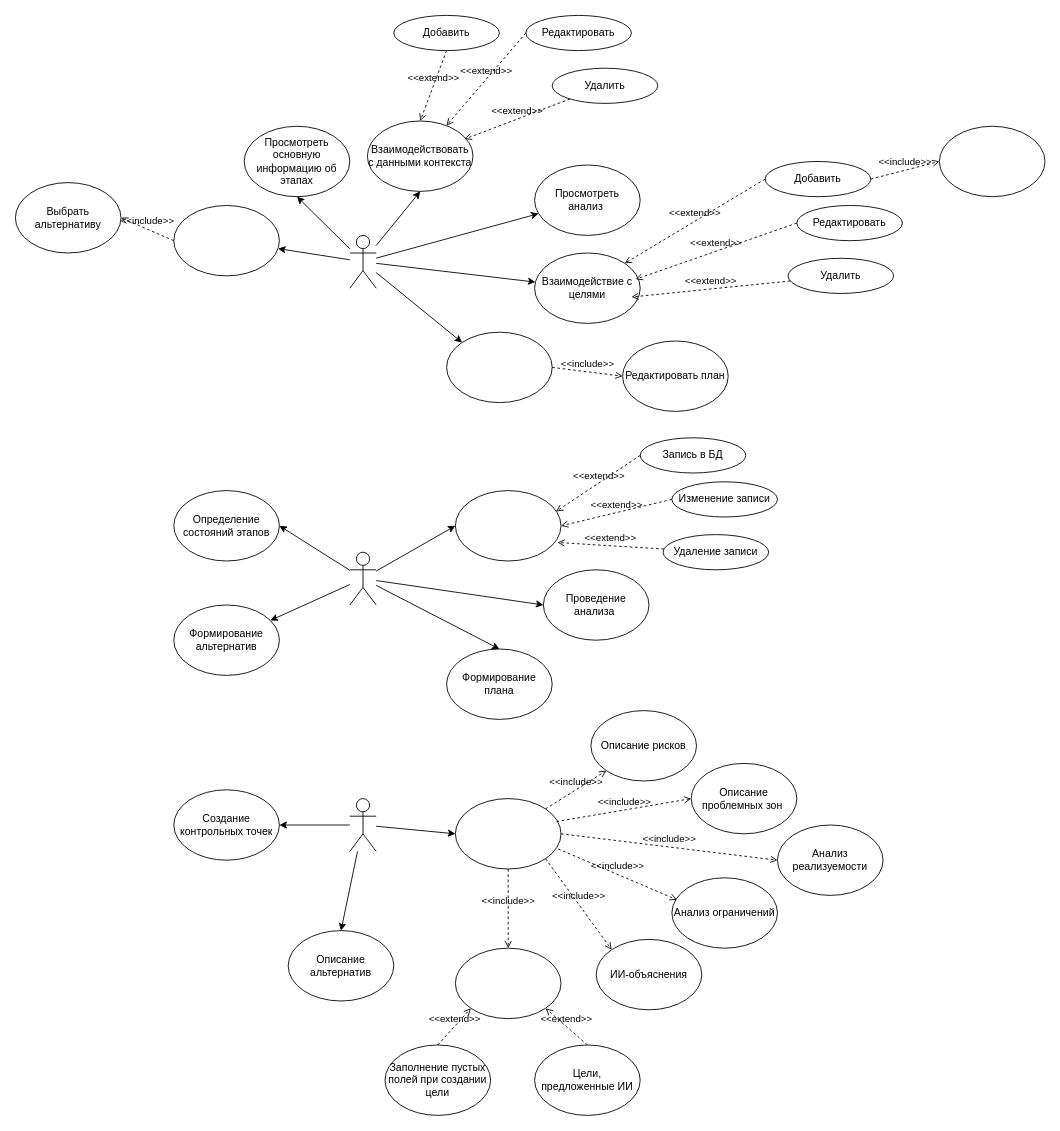
Image size: 1060x1131. Some labels were removed from this diagram. Here are the shapes that lost their labels. From the top down, the box of each, then its label:
(939, 125, 1045, 197): Добавить предложение ИИ
(173, 205, 279, 276): Просмотреть альтернативы
(349, 235, 376, 288): user
(446, 331, 552, 403): Просмотреть план
(455, 490, 561, 561): Работа с данными (контекст, цели)
(349, 551, 376, 605): sistem
(349, 798, 376, 851): AI
(455, 798, 561, 869): Аналитические описания
(455, 947, 561, 1019): ИИ-рекомендации
